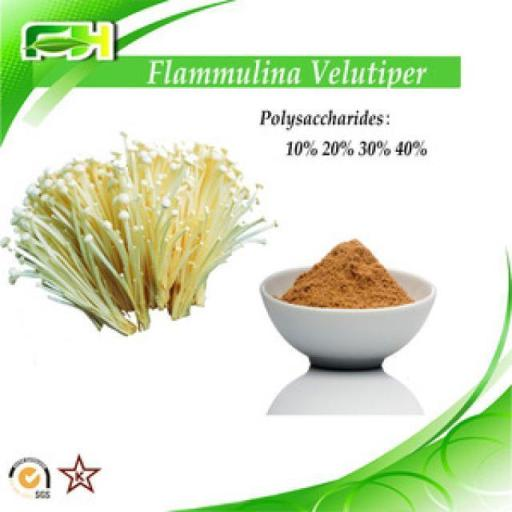Enoki Mushroom: (1, 136, 277, 336)
